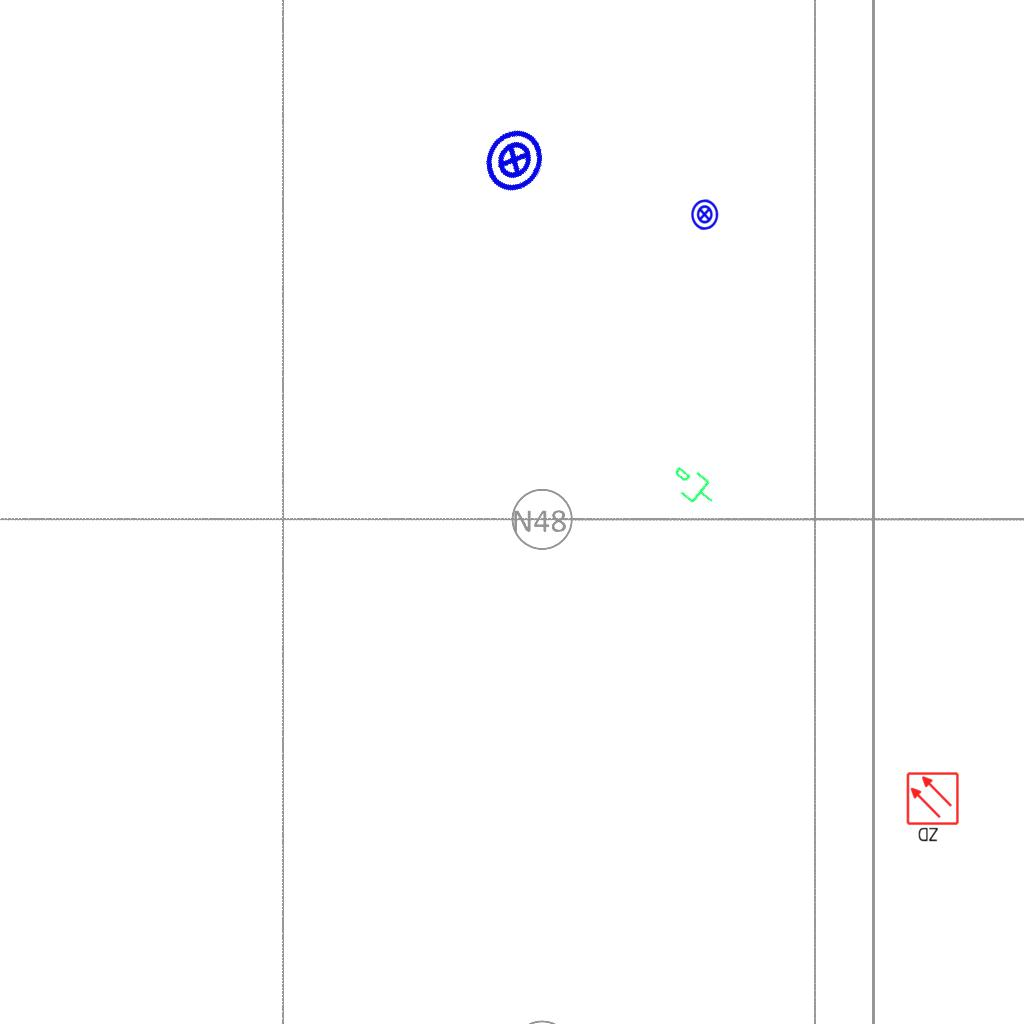Datenanschluss_einfach: (662, 458, 724, 516)
Taster_beleuchtet: (469, 115, 559, 205), (687, 197, 722, 232)
ZD_Melder_in_Zwischendecke_mit_Revisionsoeffnung_mind_40_x_40_cm: (905, 771, 962, 845)
